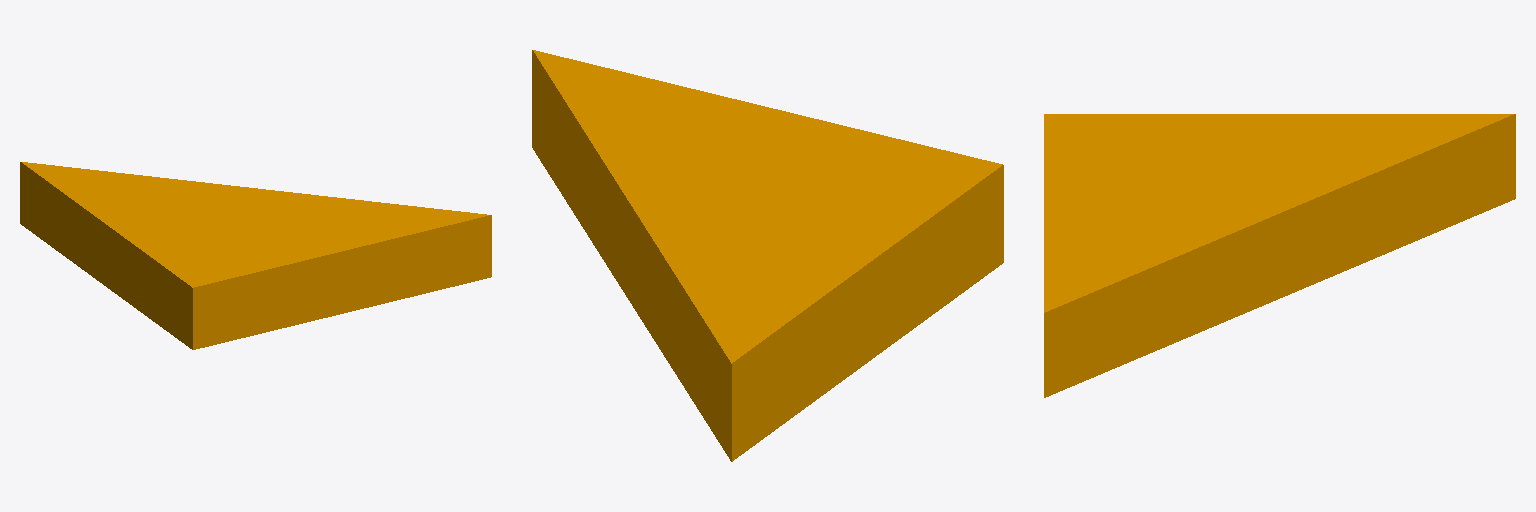
robot.urdf — cube:
<robot name="cube">
    <link name="cube">
        <contact>
            <lateral_friction value="0.1" />
        </contact>
        <inertial>
            <origin xyz="0 0 -0.1" rpy="0 0 0" />
            <mass value="0.2" />
            <inertia ixx="0" ixy="0" ixz="0" iyy="0" iyz="0" izz="0" />
        </inertial>
        <visual>
            <origin xyz="0 0 0" rpy="0 0 0" />
            <geometry>
                <mesh filename="5.stl" scale="0.001 0.001 0.001"/>
            </geometry>
        </visual>
        <collision>
            <origin xyz="0 0 0" rpy="0 0 0" />
            <geometry>
               <mesh filename="5.stl" scale="0.001 0.001 0.001"/>
            </geometry>
        </collision>
    </link>
</robot>

--- Render facts (derived) ---
3 views of the same robot in one strip: view 1: azimuth 30°, elevation 25°; view 2: azimuth 150°, elevation 25°; view 3: azimuth 270°, elevation 25° (orthographic).
Model cube with 1 links and 0 joints (none), rooted at cube, posed every joint at zero.
Visible links, largest first — view 1: cube; view 2: cube; view 3: cube.
Link boxes in pixels (box(x1,y1,x2,y2)): cube: box(20, 162, 491, 349); cube: box(532, 50, 1003, 461); cube: box(1044, 114, 1515, 397).
Size in the robot's own frame: 0.05 by 0.05 by 0.01 metres.
Meshes: 1 distinct files referenced, 1 mesh visuals loaded (1 binary STL).